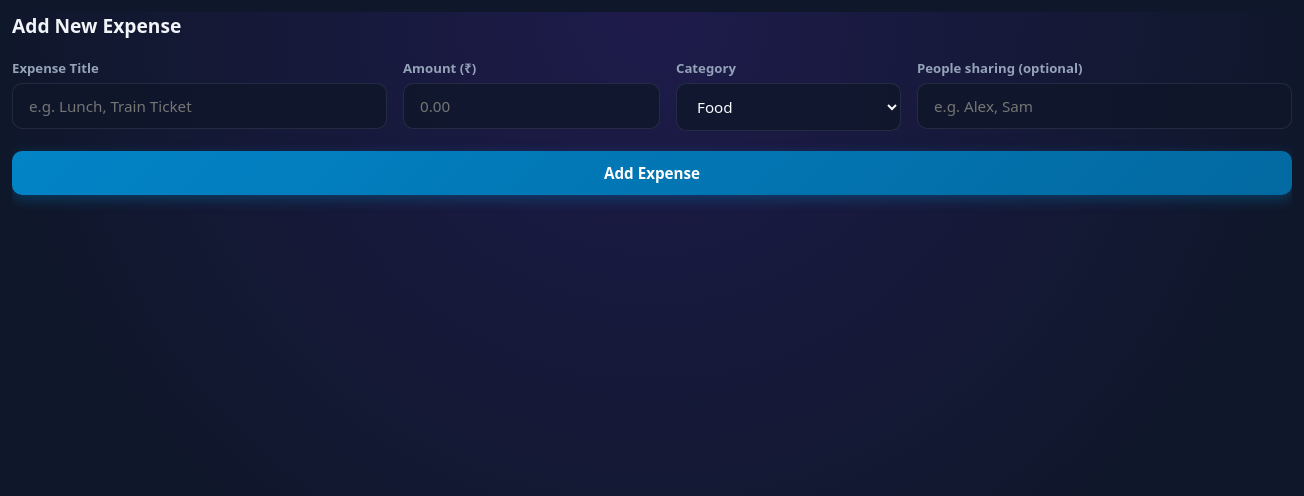
Expense Tracker: Component & Integration Suite › ExpenseForm: Validation Tests › rejects a negative amount and shows error
The image size is (1304, 496).
Type "Gym Membership" into the field labelled "Expense Title" at (200, 106), box 12,83 -> 387,129
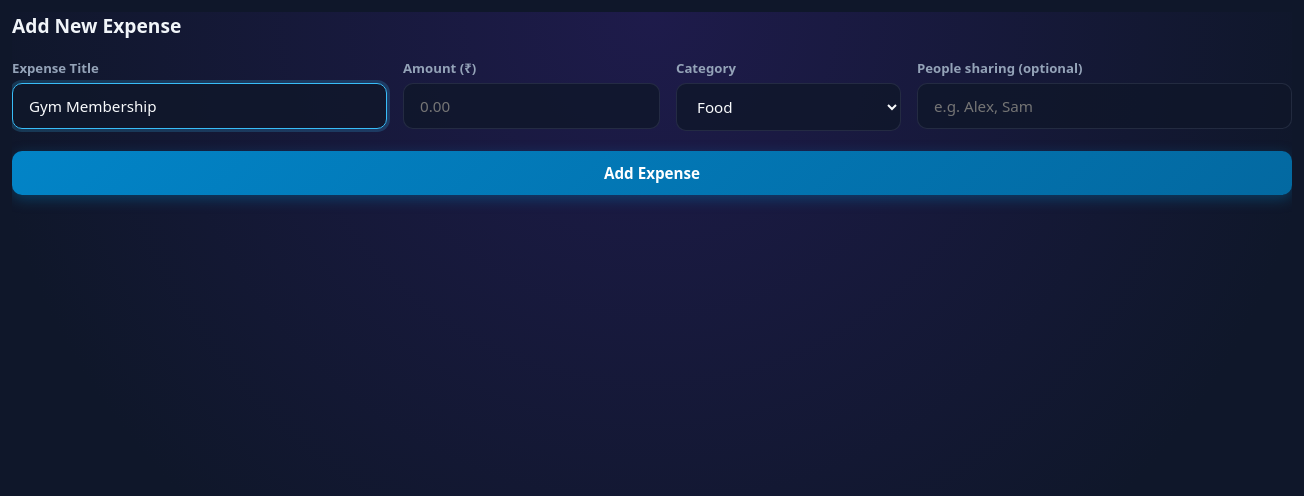
Type "-500" into the number field labelled "Amount (₹)" at (532, 106), box 403,83 -> 660,129
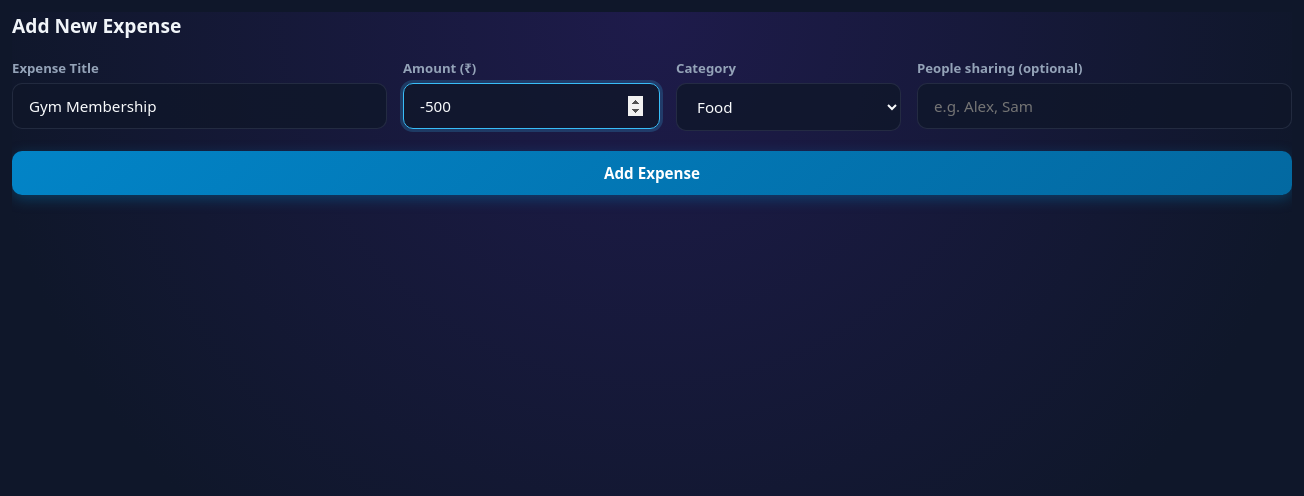
Click the button "Add Expense" at (652, 173), box 12,151 -> 1292,195
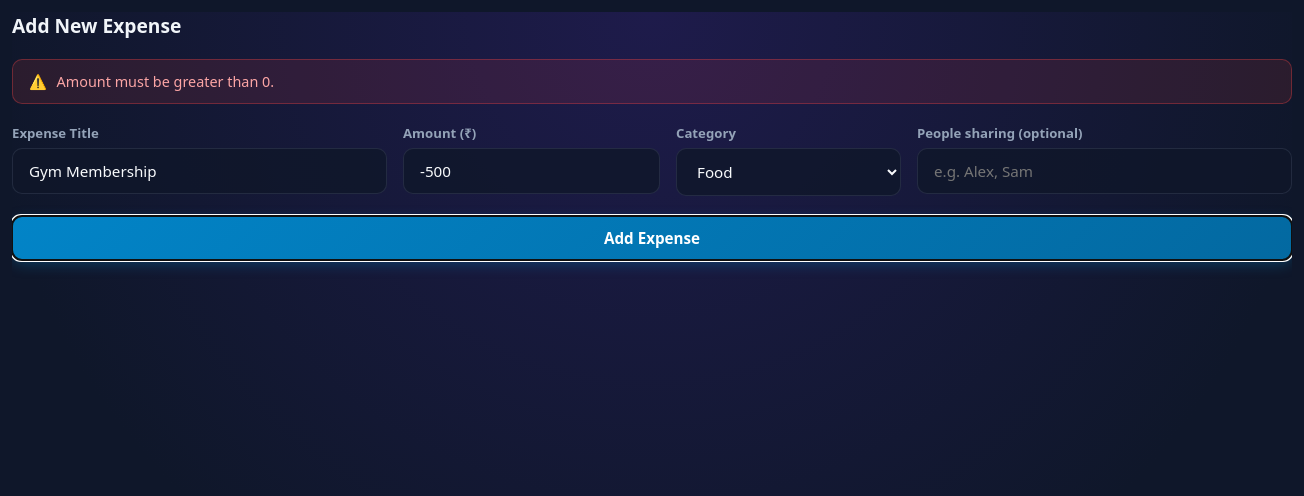
Expected: the message shows "Amount must be greater than 0", 57,72 -> 274,91
